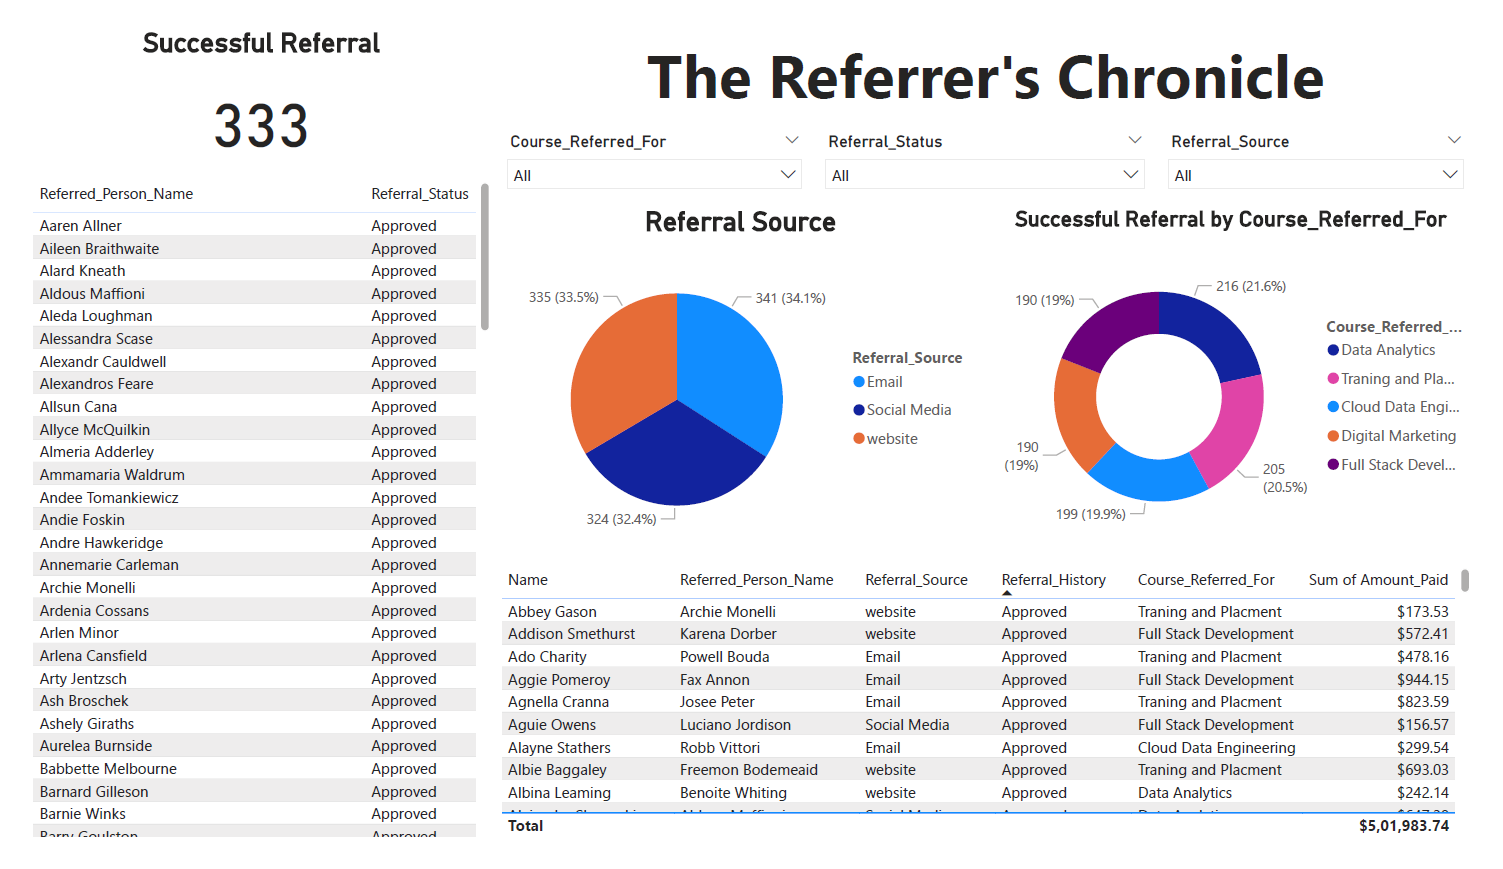

The dashboard page shown, as its layout file describes it:
{"tool":"powerbi","page":{"name":"The Referrer's Chronicle","canvas":[1280,720],"ordinal":1},"visuals":[{"type":"card","title":"Successful Referral","fields":{"Values":["GS_DATA.Successful_Referral"]},"box":[0,0,414,132.5],"z":0},{"type":"tableEx","fields":{"Values":["GS_DATA.Referred_Person_Name","GS_DATA.Referral_Status"]},"box":[0,132.5,414,587.4],"z":1000},{"type":"pieChart","title":"Referral Source","fields":{"Y":["GS_DATA.Email"],"Series":["GS_DATA.Referral_Source"]},"box":[414,157.8,432.5,315.6],"z":2000},{"type":"textbox","box":[414,0,866,87.7],"z":3000},{"type":"slicer","fields":{"Values":["GS_DATA.Referral_Status"]},"box":[694.6,87.7,303,70.1],"z":4000},{"type":"slicer","fields":{"Values":["GS_DATA.Course_Referred_For"]},"box":[414,87.7,280.5,70.1],"z":5000},{"type":"slicer","fields":{"Values":["GS_DATA.Referral_Source"]},"box":[997.5,87.7,282.5,70.1],"z":6000},{"type":"donutChart","title":"Successful Referral by Course_Referred_For","fields":{"Y":["GS_DATA.Successful_Referral"],"Category":["GS_DATA.Course_Referred_For"]},"box":[846.5,157.8,433.5,315.6],"z":7000},{"type":"tableEx","fields":{"Values":["GS_DATA.Name","GS_DATA.Referred_Person_Name","GS_DATA.Referral_Source","GS_DATA.Referral_History","GS_DATA.Course_Referred_For","GS_DATA.Amount_Paid"]},"box":[414,473.4,866,245.5],"z":8000}]}

Visuals, with their boxes on the page's 1280x720 design canvas (x1, y1, x2, y2). These are canvas units, not pixel positions in the 1503x869 screenshot, which may show the page scaled, cropped or inside an application window:
"Successful Referral" card: [x1=0, y1=0, x2=414, y2=132]
tableEx - GS_DATA.Referred_Person_Name x GS_DATA.Referral_Status: [x1=0, y1=132, x2=414, y2=720]
"Referral Source" pieChart: [x1=414, y1=158, x2=846, y2=473]
textbox: [x1=414, y1=0, x2=1280, y2=88]
slicer - GS_DATA.Referral_Status: [x1=695, y1=88, x2=998, y2=158]
slicer - GS_DATA.Course_Referred_For: [x1=414, y1=88, x2=694, y2=158]
slicer - GS_DATA.Referral_Source: [x1=998, y1=88, x2=1280, y2=158]
"Successful Referral by Course_Referred_For" donutChart: [x1=846, y1=158, x2=1280, y2=473]
tableEx - GS_DATA.Name x GS_DATA.Referred_Person_Name: [x1=414, y1=473, x2=1280, y2=719]
